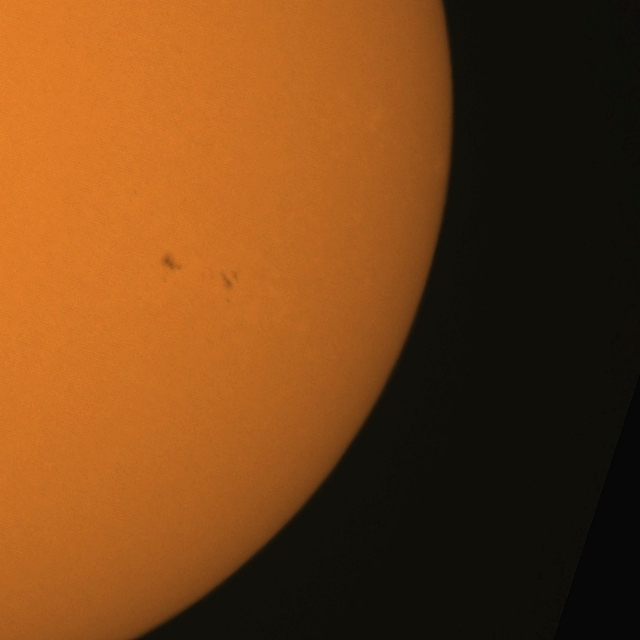sunspot: (160, 254, 182, 280), (221, 270, 239, 292)
